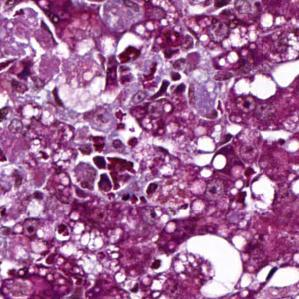ballooning: (168, 230, 246, 299), (51, 62, 128, 113)
